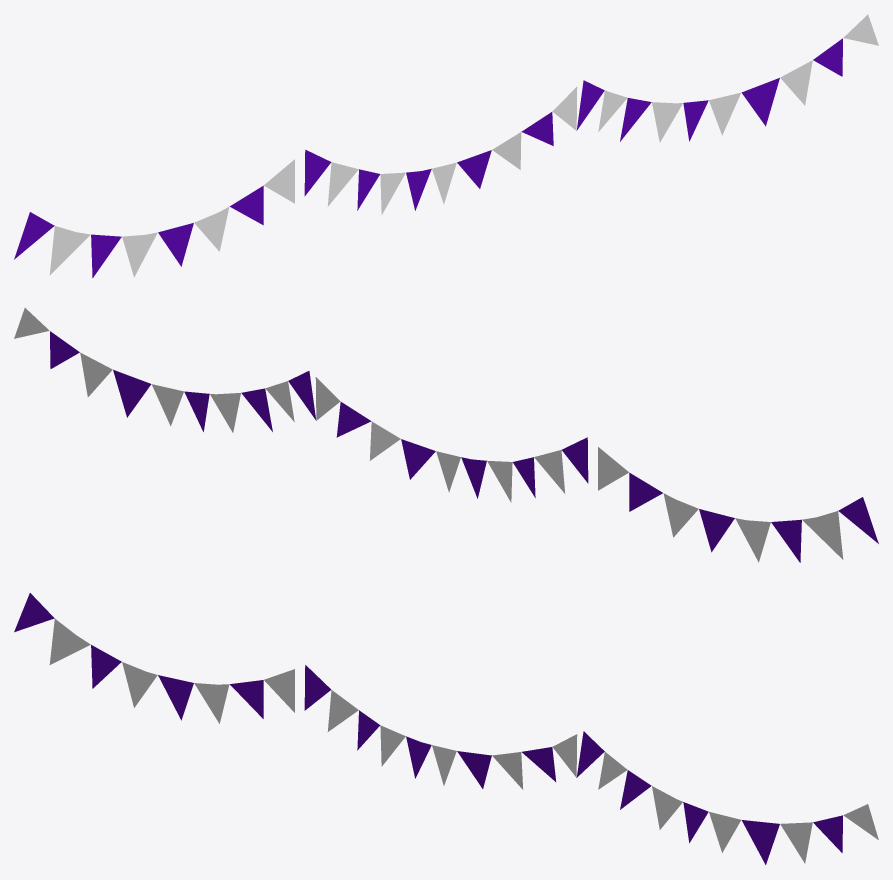
The model's file is party_streamers.fbx.
3 renders of one model, top to bottom at view 1: azimuth 30°, elevation 25°; view 2: azimuth 150°, elevation 25°; view 3: azimuth 330°, elevation 25°, orthographic.
Parts seen in each view (by area): view 1: Component_7_1; view 2: Component_7_1; view 3: Component_7_1.
Part boxes in pixels (x1,y1,x2,y2): Component_7_1: (14,14,878,277); Component_7_1: (14,308,878,562); Component_7_1: (14,593,878,864).
Size of the model in its own units: 124 by 13.43 by 1.11.
